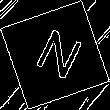N_SW: (26, 23, 84, 87)
